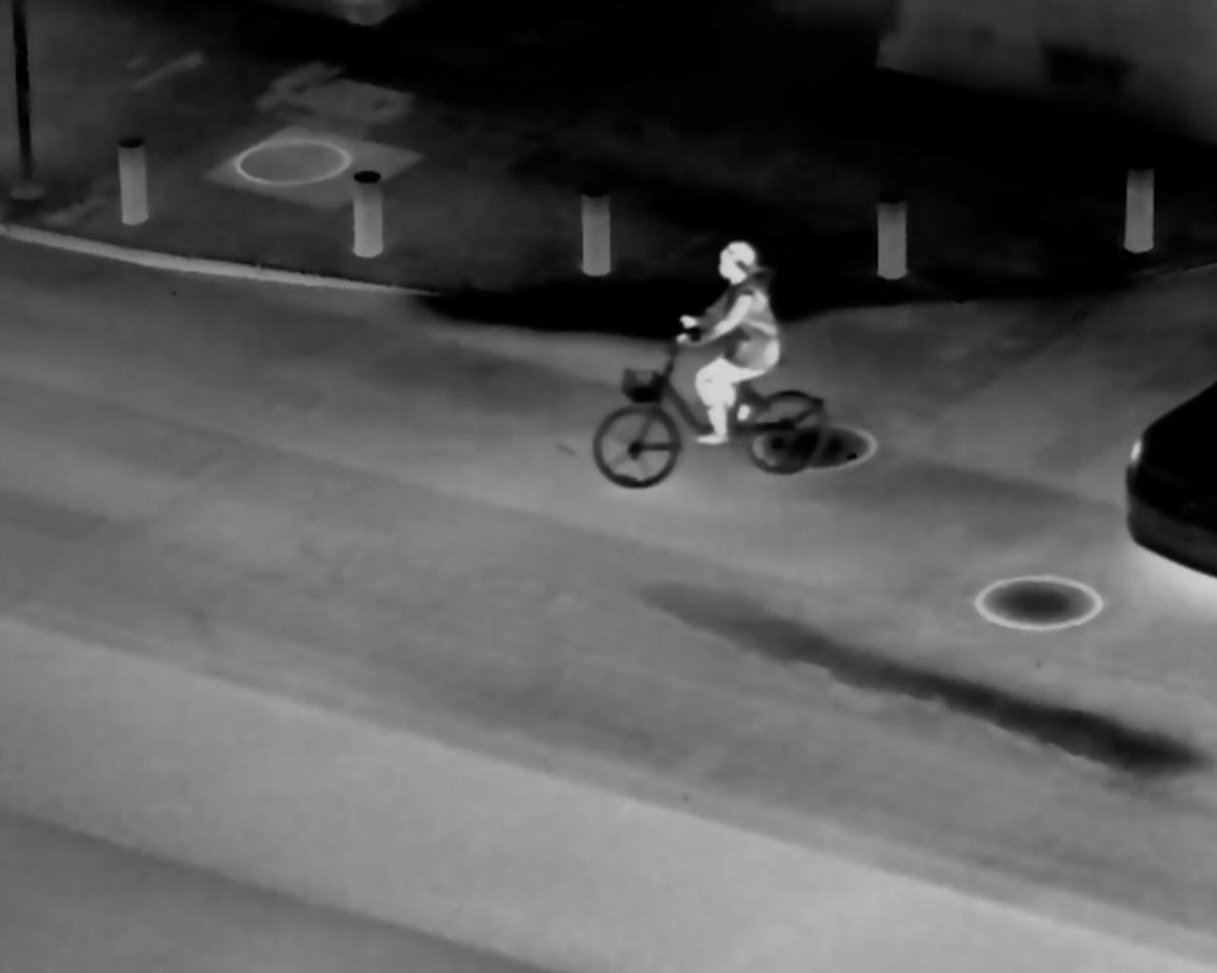person: (669, 235, 791, 457)
